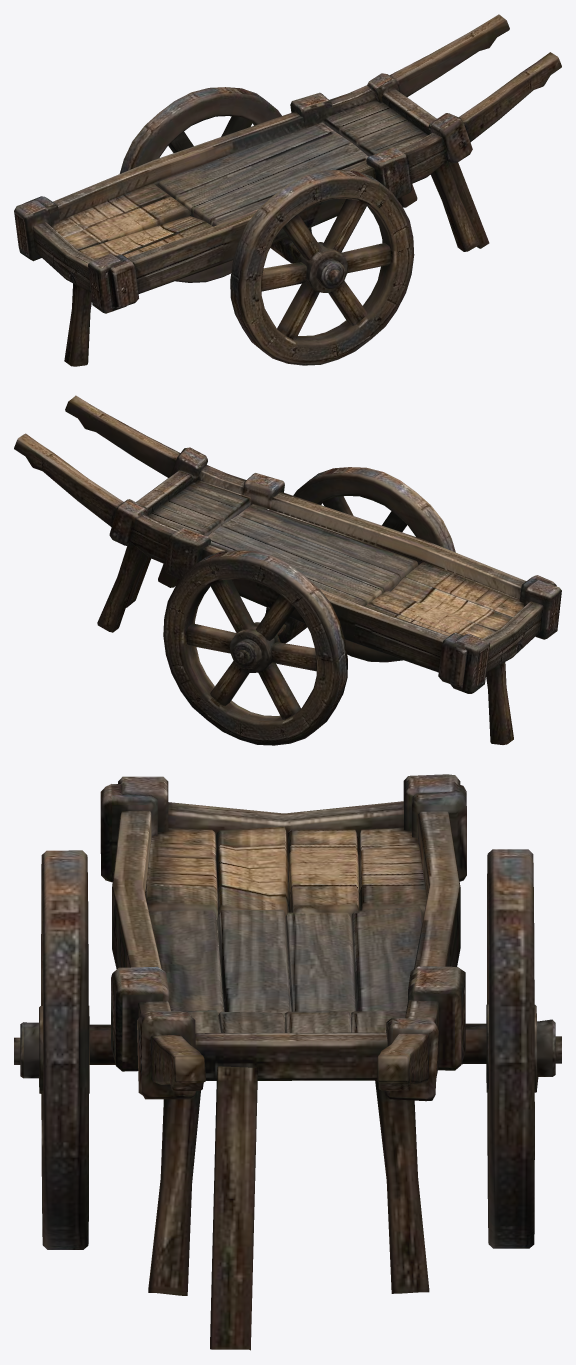
Rendered from act1-a02-6-hand-cart.glb.
The picture shows the model from 3 angles, top to bottom: view 1: azimuth 30°, elevation 25°; view 2: azimuth 150°, elevation 25°; view 3: azimuth 270°, elevation 25°; orthographic projection. The views are drawn at different scales.
Visible parts, largest first — view 1: act1-a02-6-hand-cart; view 2: act1-a02-6-hand-cart; view 3: act1-a02-6-hand-cart.
Part boxes in pixels (<box>): act1-a02-6-hand-cart: <box>14,14,561,366</box>; act1-a02-6-hand-cart: <box>14,395,561,745</box>; act1-a02-6-hand-cart: <box>14,774,561,1350</box>.
Size of the model in its own units: 3.2 by 1.4 by 1.62.
Materials: 1 (1 with a texture image).
